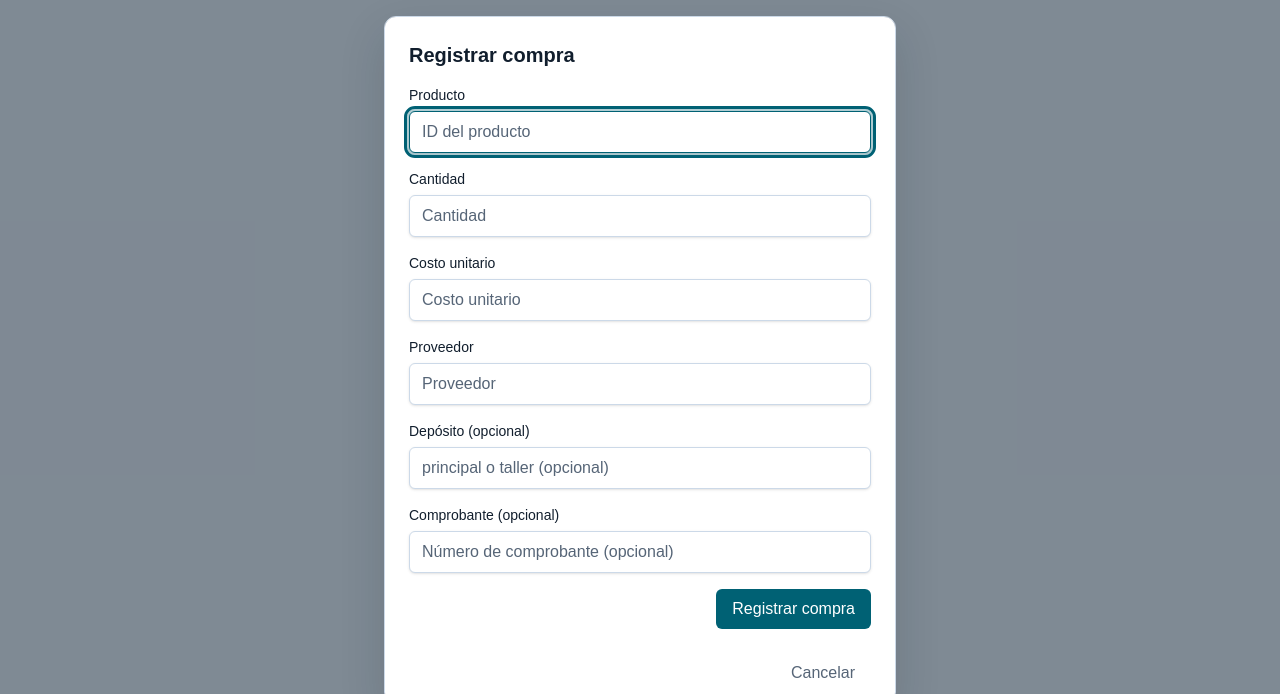
Test: PurchaseEntryModal › validates cantidad and costo with the domain schema before posting
The image size is (1280, 694).
Type "p_1" into the field labelled "Producto" at (640, 132), box x1=409 y1=111 x2=871 y2=153
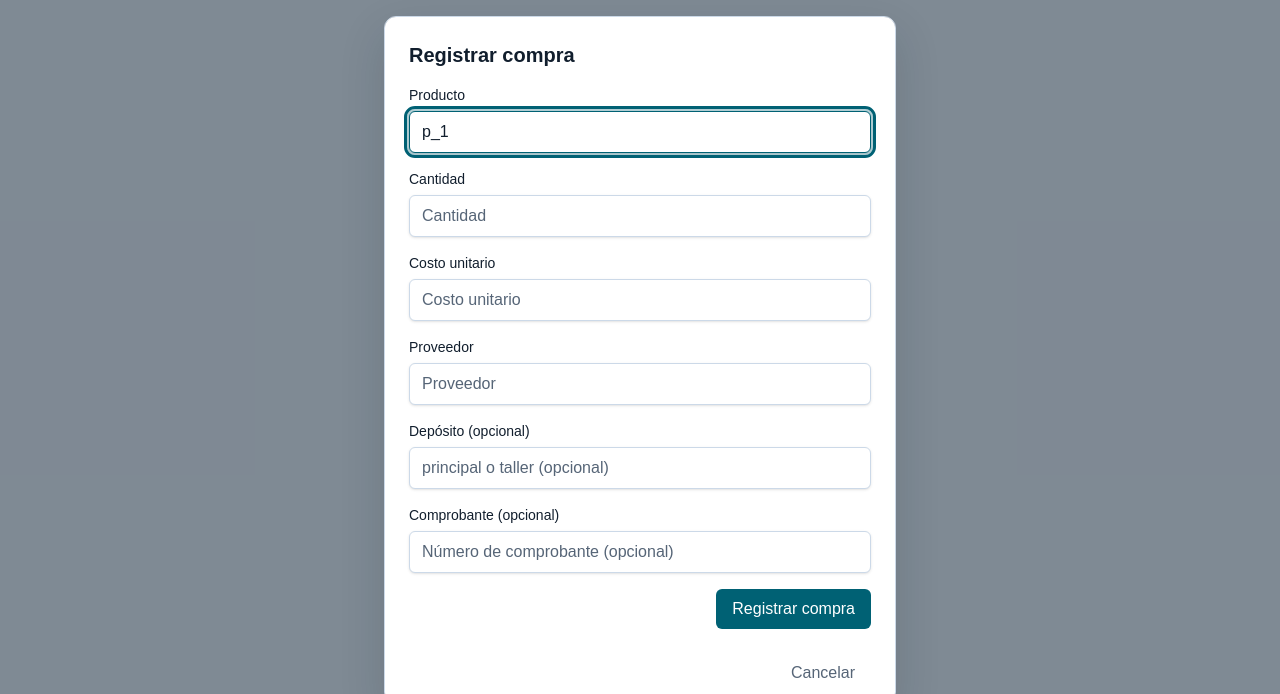
Click the button "Registrar compra" at (794, 609), box x1=716 y1=589 x2=871 y2=629
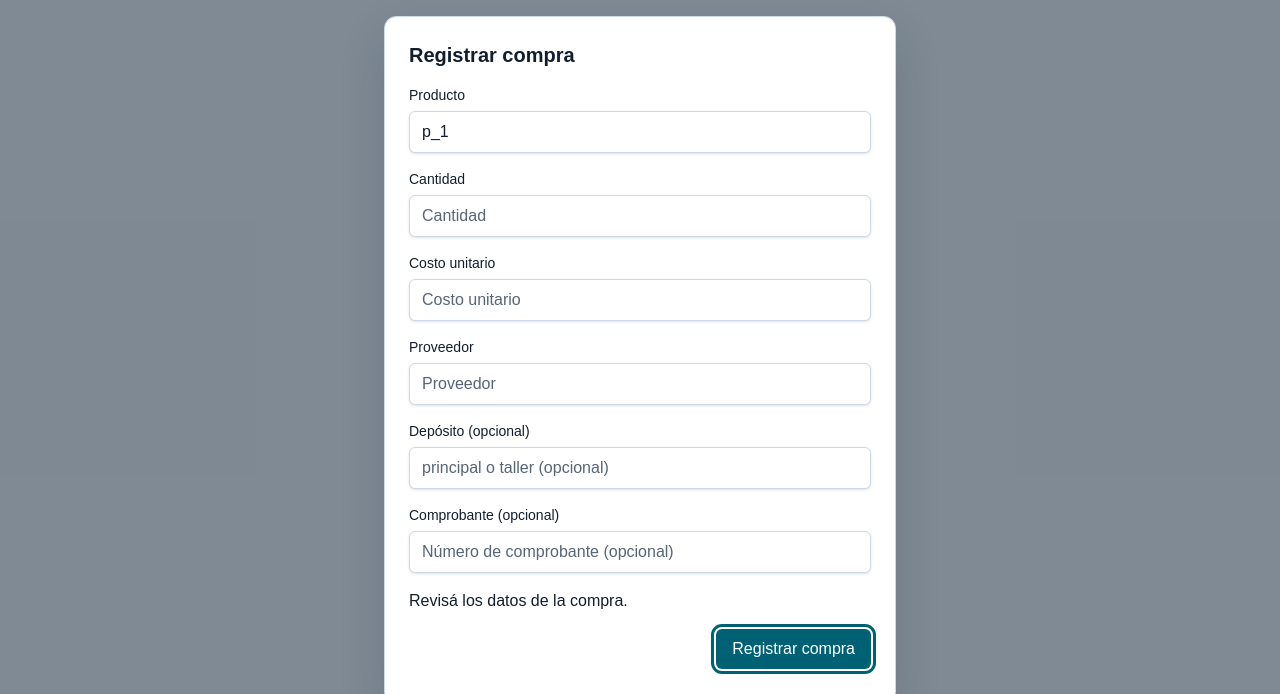
Now the message "Revisá los datos de la compra." is shown, box x1=409 y1=592 x2=628 y2=609
